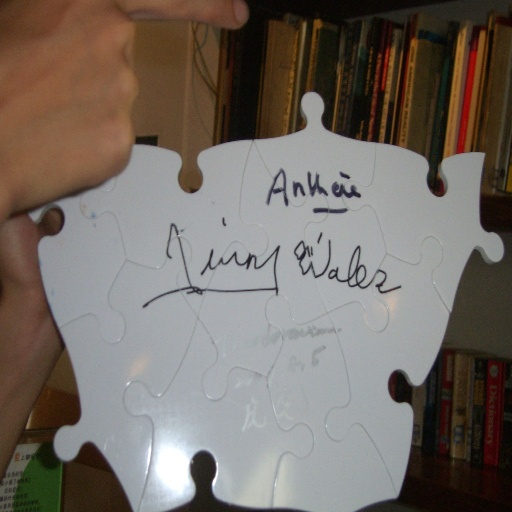hand: (0, 0, 252, 222), (0, 210, 67, 348)
